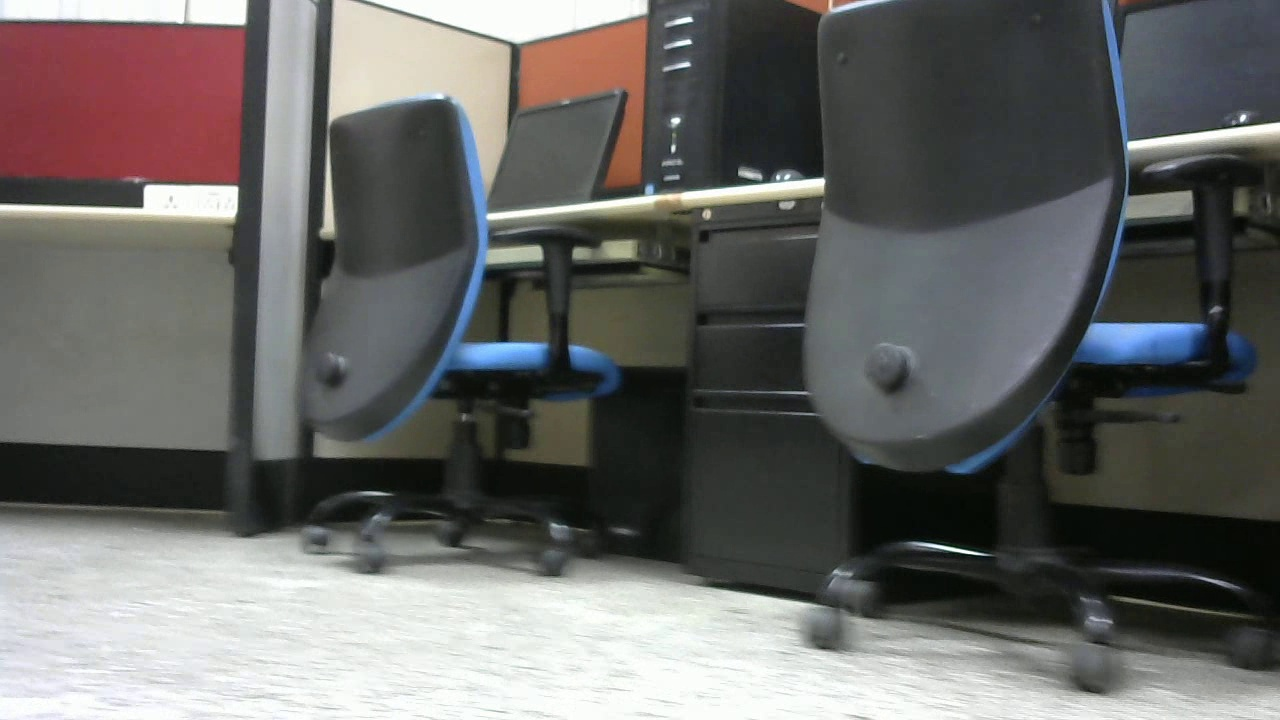chair: (786, 1, 1280, 687), (293, 98, 609, 571)
